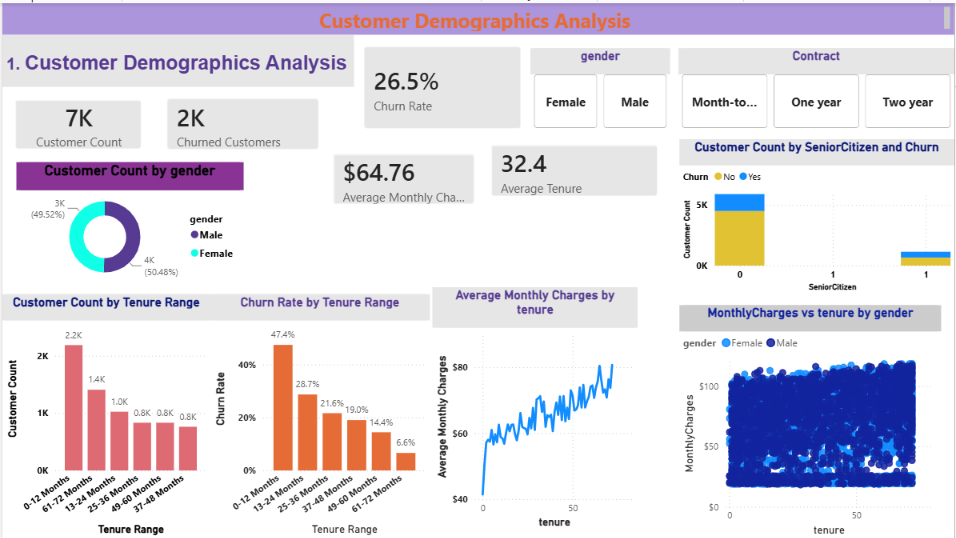

This screenshot's page, from the dashboard's own definition file:
{"tool":"powerbi","page":{"name":"Customer Demographics Analysis","canvas":[1280,720],"ordinal":0},"visuals":[{"type":"columnChart","fields":{"Category":["Telcom-Customer-Churn.SeniorCitizen"],"Y":["Telcom-Customer-Churn.Customer Count"],"Series":["Telcom-Customer-Churn.Churn"]},"box":[910.4,182.9,369.8,209.8],"z":1},{"type":"clusteredColumnChart","fields":{"Category":["Telcom-Customer-Churn.Tenure Range"],"Y":["Telcom-Customer-Churn.Customer Count"]},"box":[0,391.5,279.7,328.8],"z":2},{"type":"clusteredColumnChart","fields":{"Category":["Telcom-Customer-Churn.Tenure Range"],"Y":["Telcom-Customer-Churn.Churn Rate"]},"box":[279.7,391.5,294.9,328.8],"z":3},{"type":"lineChart","fields":{"Category":["Telcom-Customer-Churn.tenure"],"Y":["Telcom-Customer-Churn.Average Monthly Charges"]},"box":[578,381.4,276.3,328.8],"z":4},{"type":"scatterChart","title":" MonthlyCharges vs tenure by gender","fields":{"X":["Telcom-Customer-Churn.tenure"],"Y":["Telcom-Customer-Churn.MonthlyCharges"],"Series":["Telcom-Customer-Churn.gender"]},"box":[910.4,406.1,352.3,314.7],"z":5},{"type":"cardVisual","fields":{"Data":["Telcom-Customer-Churn.Customer Count"]},"box":[0,113,204.4,100.9],"z":6},{"type":"cardVisual","fields":{"Data":["Telcom-Customer-Churn.Churned Customers"]},"box":[204.4,111.6,238,102.2],"z":7},{"type":"cardVisual","fields":{"Data":["Telcom-Customer-Churn.Churn Rate"]},"box":[469.3,41.7,245.8,144.1],"z":8},{"type":"cardVisual","fields":{"Data":["Telcom-Customer-Churn.Average Tenure"]},"box":[640.1,173.5,258.2,103.6],"z":10},{"type":"cardVisual","fields":{"Data":["Telcom-Customer-Churn.Average Monthly Charges"]},"box":[427.7,185.6,224.6,102.2],"z":11},{"type":"textbox","box":[0,0,1279.7,42.4],"z":12},{"type":"textbox","box":[0,42.4,472.9,69.5],"z":14},{"type":"advancedSlicerVisual","fields":{"Values":["Telcom-Customer-Churn.gender"]},"box":[710.1,60.5,188.3,113],"z":15},{"type":"advancedSlicerVisual","fields":{"Values":["Telcom-Customer-Churn.Contract"]},"box":[909.1,60.5,371.2,113],"z":16},{"type":"donutChart","fields":{"Category":["Telcom-Customer-Churn.gender"],"Y":["Telcom-Customer-Churn.Customer Count"]},"box":[18.8,213.8,305.3,168.1],"z":17}]}

Visuals, with their boxes in screenshot pixels (x1, y1, x2, y2), scaled from the page's 1280x720 canvas onto the 956x538 screenshot:
columnChart - Telcom-Customer-Churn.SeniorCitizen x Telcom-Customer-Churn.Customer Count: select_region(680, 137, 955, 293)
clusteredColumnChart - Telcom-Customer-Churn.Tenure Range x Telcom-Customer-Churn.Customer Count: select_region(0, 293, 209, 537)
clusteredColumnChart - Telcom-Customer-Churn.Tenure Range x Telcom-Customer-Churn.Churn Rate: select_region(209, 293, 429, 537)
lineChart - Telcom-Customer-Churn.tenure x Telcom-Customer-Churn.Average Monthly Charges: select_region(432, 285, 638, 531)
" MonthlyCharges vs tenure by gender" scatterChart: select_region(680, 303, 943, 537)
cardVisual - Telcom-Customer-Churn.Customer Count: select_region(0, 84, 153, 160)
cardVisual - Telcom-Customer-Churn.Churned Customers: select_region(153, 83, 330, 160)
cardVisual - Telcom-Customer-Churn.Churn Rate: select_region(351, 31, 534, 139)
cardVisual - Telcom-Customer-Churn.Average Tenure: select_region(478, 130, 671, 207)
cardVisual - Telcom-Customer-Churn.Average Monthly Charges: select_region(319, 139, 487, 215)
textbox: select_region(0, 0, 955, 32)
textbox: select_region(0, 32, 353, 84)
advancedSlicerVisual - Telcom-Customer-Churn.gender: select_region(530, 45, 671, 130)
advancedSlicerVisual - Telcom-Customer-Churn.Contract: select_region(679, 45, 955, 130)
donutChart - Telcom-Customer-Churn.gender x Telcom-Customer-Churn.Customer Count: select_region(14, 160, 242, 285)
